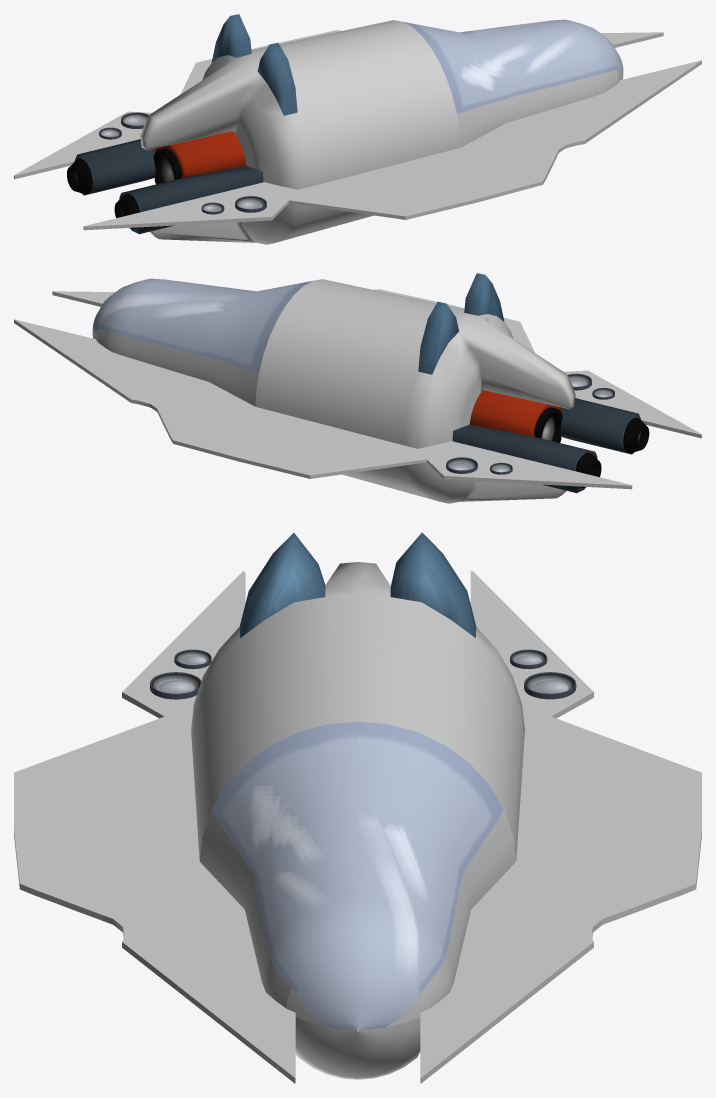
File: kittyshuttle (1).fbx
3 views of the same model, one above another, from view 1: azimuth 30°, elevation 25°; view 2: azimuth 150°, elevation 25°; view 3: azimuth 270°, elevation 25° (orthographic). The views are drawn at different scales.
Visible parts, largest first — view 1: ship base, right wing, ship base.002, left wing, rigth tube, ship (cat) ears, left tube, base tube, base tube.001, left tubeport, right tubeport; view 2: ship base, left wing, ship base.002, right wing, left tube, ship (cat) ears, rigth tube, base tube, base tube.001, right tubeport, left tubeport; view 3: ship base, ship base.002, right wing, left wing, ship (cat) ears.
Part boxes in pixels (x1=…): ship base: x1=140, y1=20, x2=623, y2=244; right wing: x1=83, y1=60, x2=701, y2=230; ship base.002: x1=403, y1=19, x2=623, y2=113; left wing: x1=14, y1=30, x2=663, y2=179; rigth tube: x1=119, y1=165, x2=263, y2=234; ship (cat) ears: x1=211, y1=14, x2=297, y2=115; left tube: x1=74, y1=139, x2=155, y2=195; base tube: x1=154, y1=131, x2=246, y2=178; base tube.001: x1=153, y1=148, x2=182, y2=184; left tubeport: x1=67, y1=158, x2=92, y2=194; right tubeport: x1=114, y1=193, x2=139, y2=229; ship base: x1=92, y1=279, x2=575, y2=503; left wing: x1=14, y1=319, x2=632, y2=489; ship base.002: x1=92, y1=278, x2=312, y2=372; right wing: x1=52, y1=289, x2=701, y2=438; left tube: x1=452, y1=424, x2=597, y2=493; ship (cat) ears: x1=418, y1=273, x2=504, y2=374; rigth tube: x1=560, y1=398, x2=641, y2=454; base tube: x1=469, y1=390, x2=561, y2=436; base tube.001: x1=534, y1=407, x2=562, y2=442; right tubeport: x1=623, y1=417, x2=649, y2=453; left tubeport: x1=576, y1=452, x2=601, y2=488; ship base: x1=191, y1=562, x2=524, y2=1079; ship base.002: x1=211, y1=721, x2=504, y2=1030; right wing: x1=14, y1=571, x2=295, y2=1083; left wing: x1=420, y1=571, x2=701, y2=1083; ship (cat) ears: x1=239, y1=532, x2=476, y2=637.
Size of the model in its own units: 2813 by 877 by 1615.
